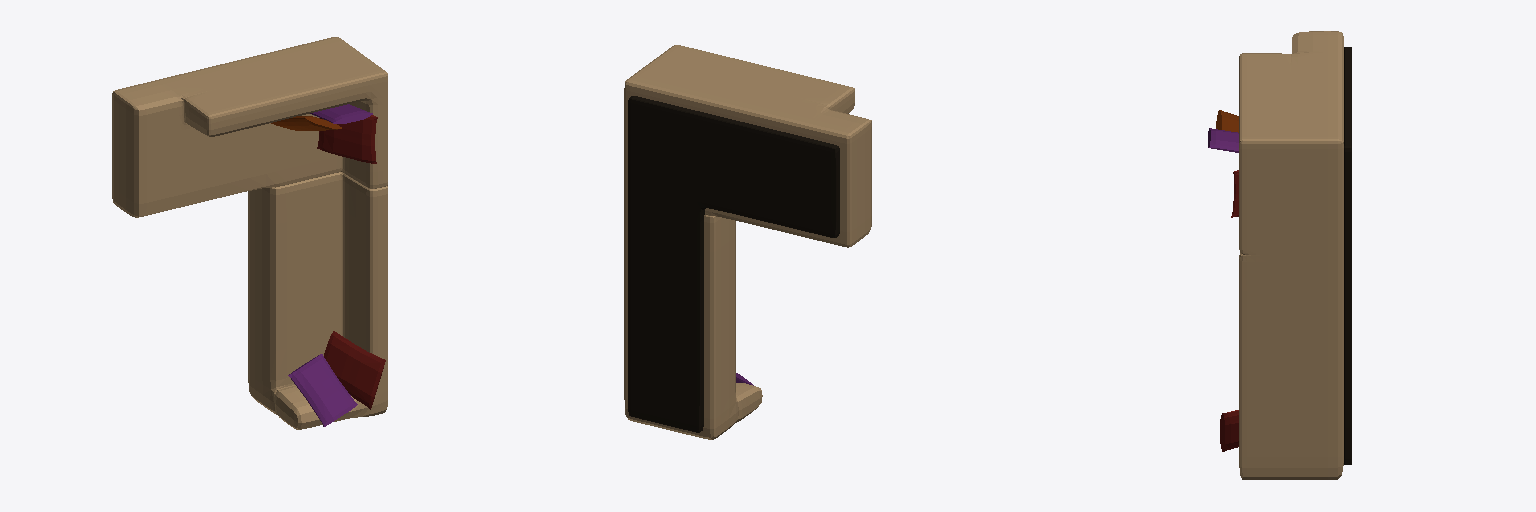
The model's file is sofa.obj.
The picture shows the model from 3 angles: view 1: azimuth 30°, elevation 25°; view 2: azimuth 150°, elevation 25°; view 3: azimuth 270°, elevation 25°; orthographic projection.
Visible parts, largest first — view 1: sofa_Cube.001; view 2: sofa_Cube.001; view 3: sofa_Cube.001.
Boxes of the visible parts, x1,y1,x2,y2 form: sofa_Cube.001: [112, 37, 387, 429]; sofa_Cube.001: [624, 45, 871, 439]; sofa_Cube.001: [1208, 31, 1351, 479].
Bounding box in the file's own units: 2.5 × 3.6 × 1.38.